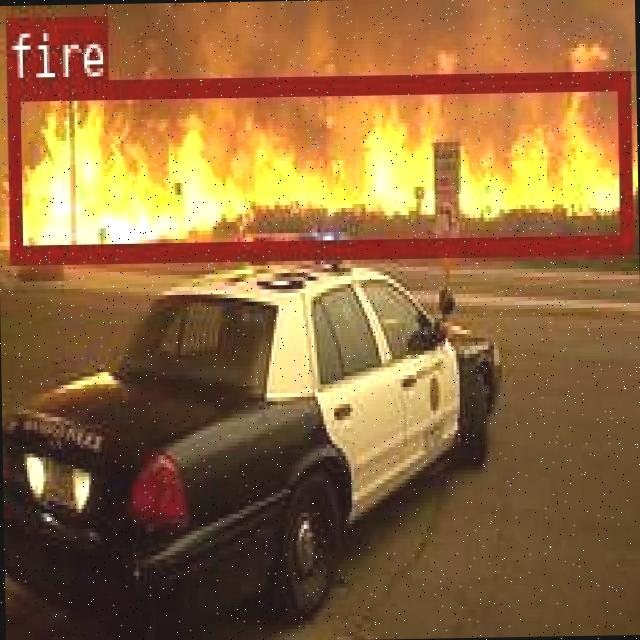fire: (7, 69, 630, 258)
